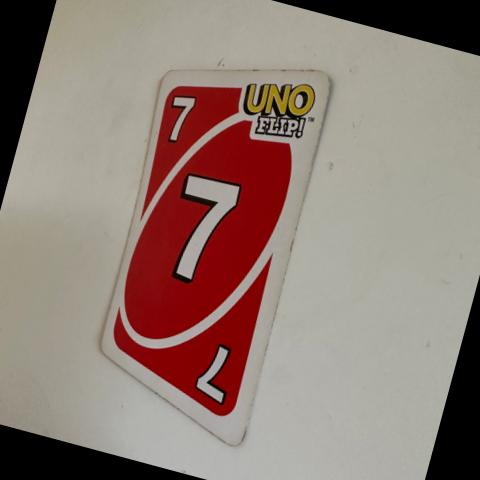9_green: (173, 167, 245, 285), (194, 343, 232, 403), (169, 92, 197, 146)
